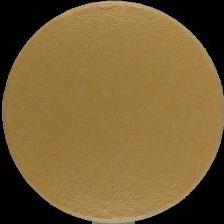10702-007: (0, 0, 224, 224)
